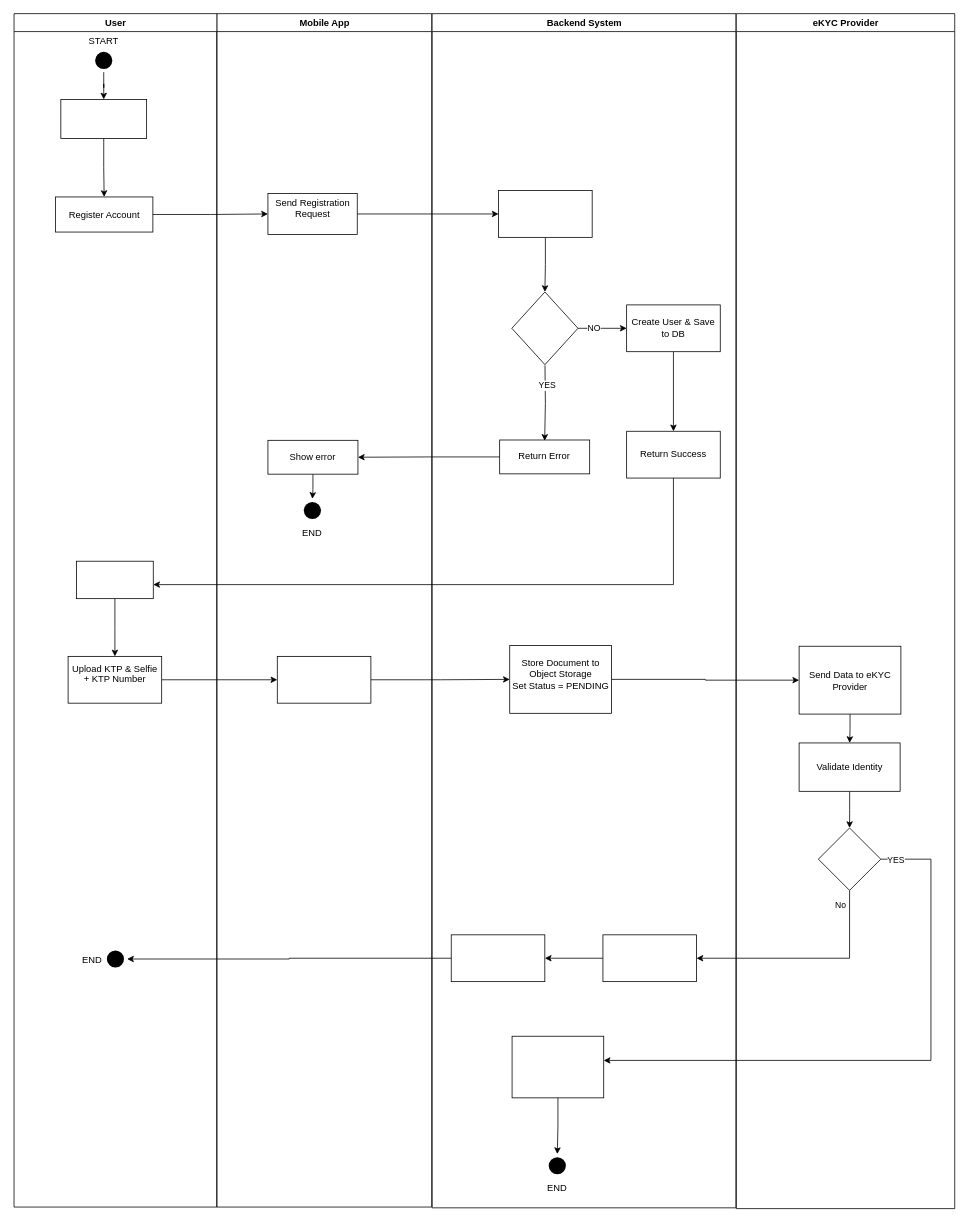
Image size: 968x1222. Some labels were removed from this diagram. Each missing label, with the centre of its shape:
"Already Registered?" goes at [544,328].
"Ask Reupload" goes at [497,958].
"Login" goes at [114,579].
"Open Mobile App" goes at [103,118].
"Send Document Request" goes at [324,679].
"Status = REJECTED" goes at [649,958].
"Update Status = VERIFIED User Ready to Apply Loan" goes at [557,1066].
"Validate Email & Phone (Unique)" goes at [545,213].
"Verified?" goes at [849,858].
